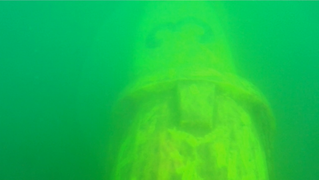3: (145, 17, 213, 49)
pipe: (111, 1, 277, 179)
